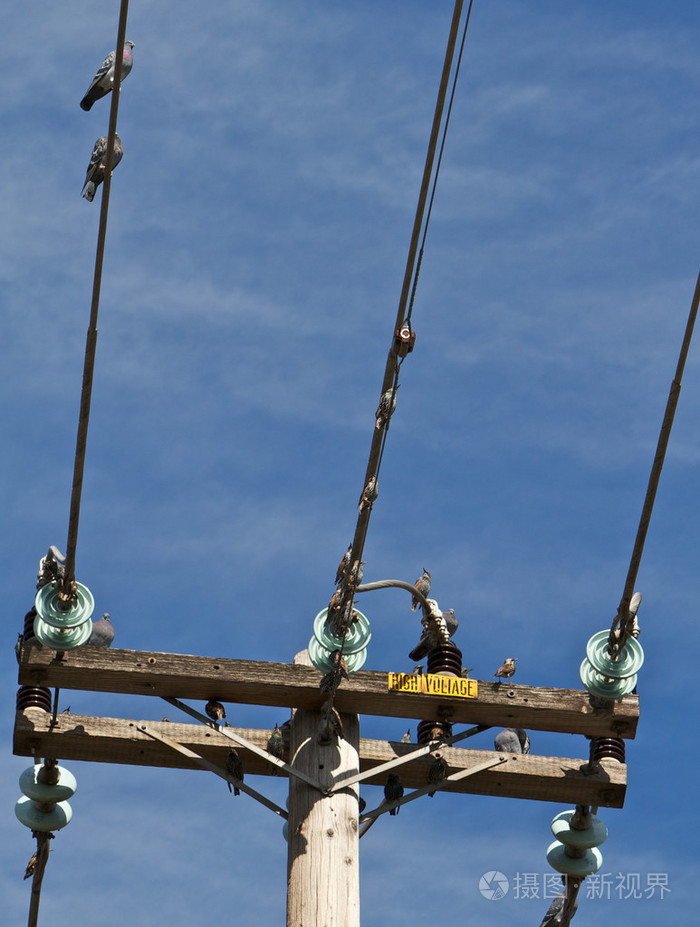insulator: (309, 606, 374, 680), (548, 813, 617, 881), (578, 628, 642, 699), (32, 585, 97, 650), (18, 766, 77, 834)
